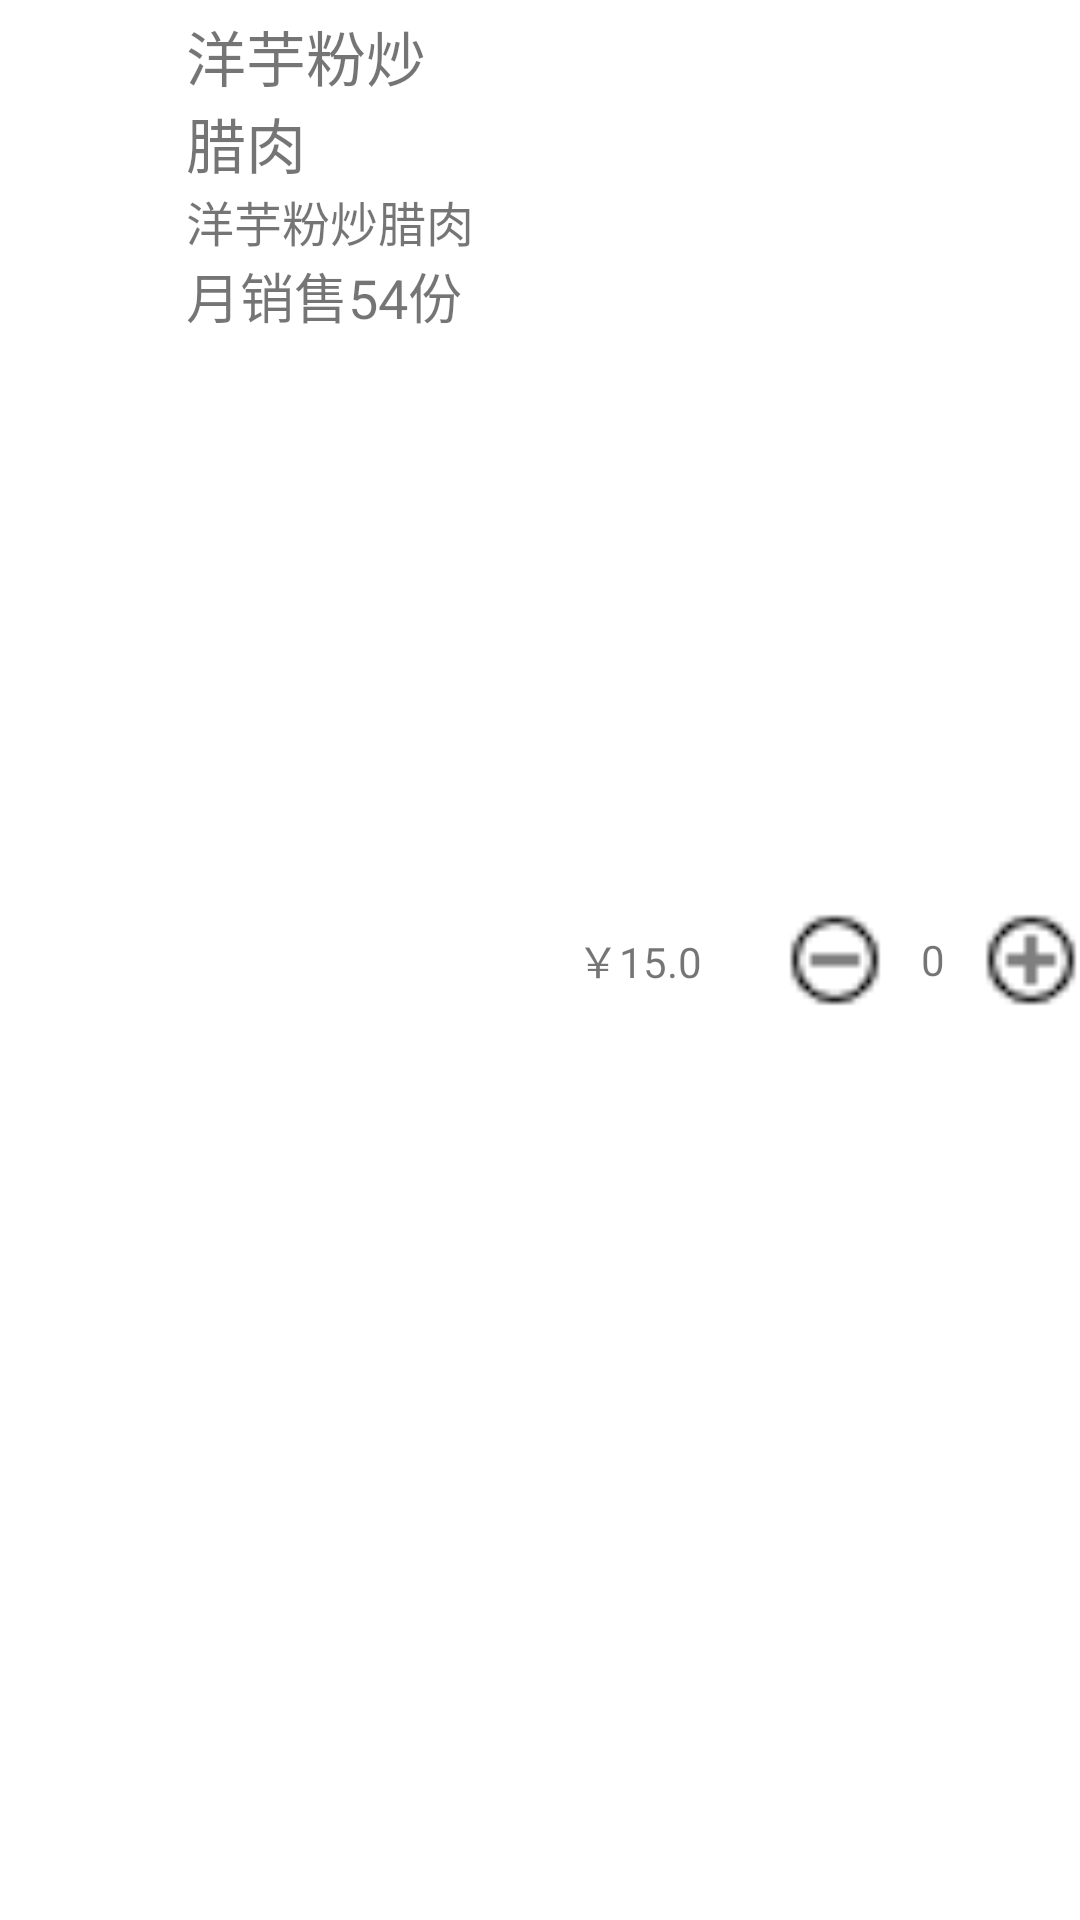

Icons on this 1080 × 1920 Android screen, each with the point to tap as [x,y]:
add detail: [1031,960]
dec detail: [835,960]
